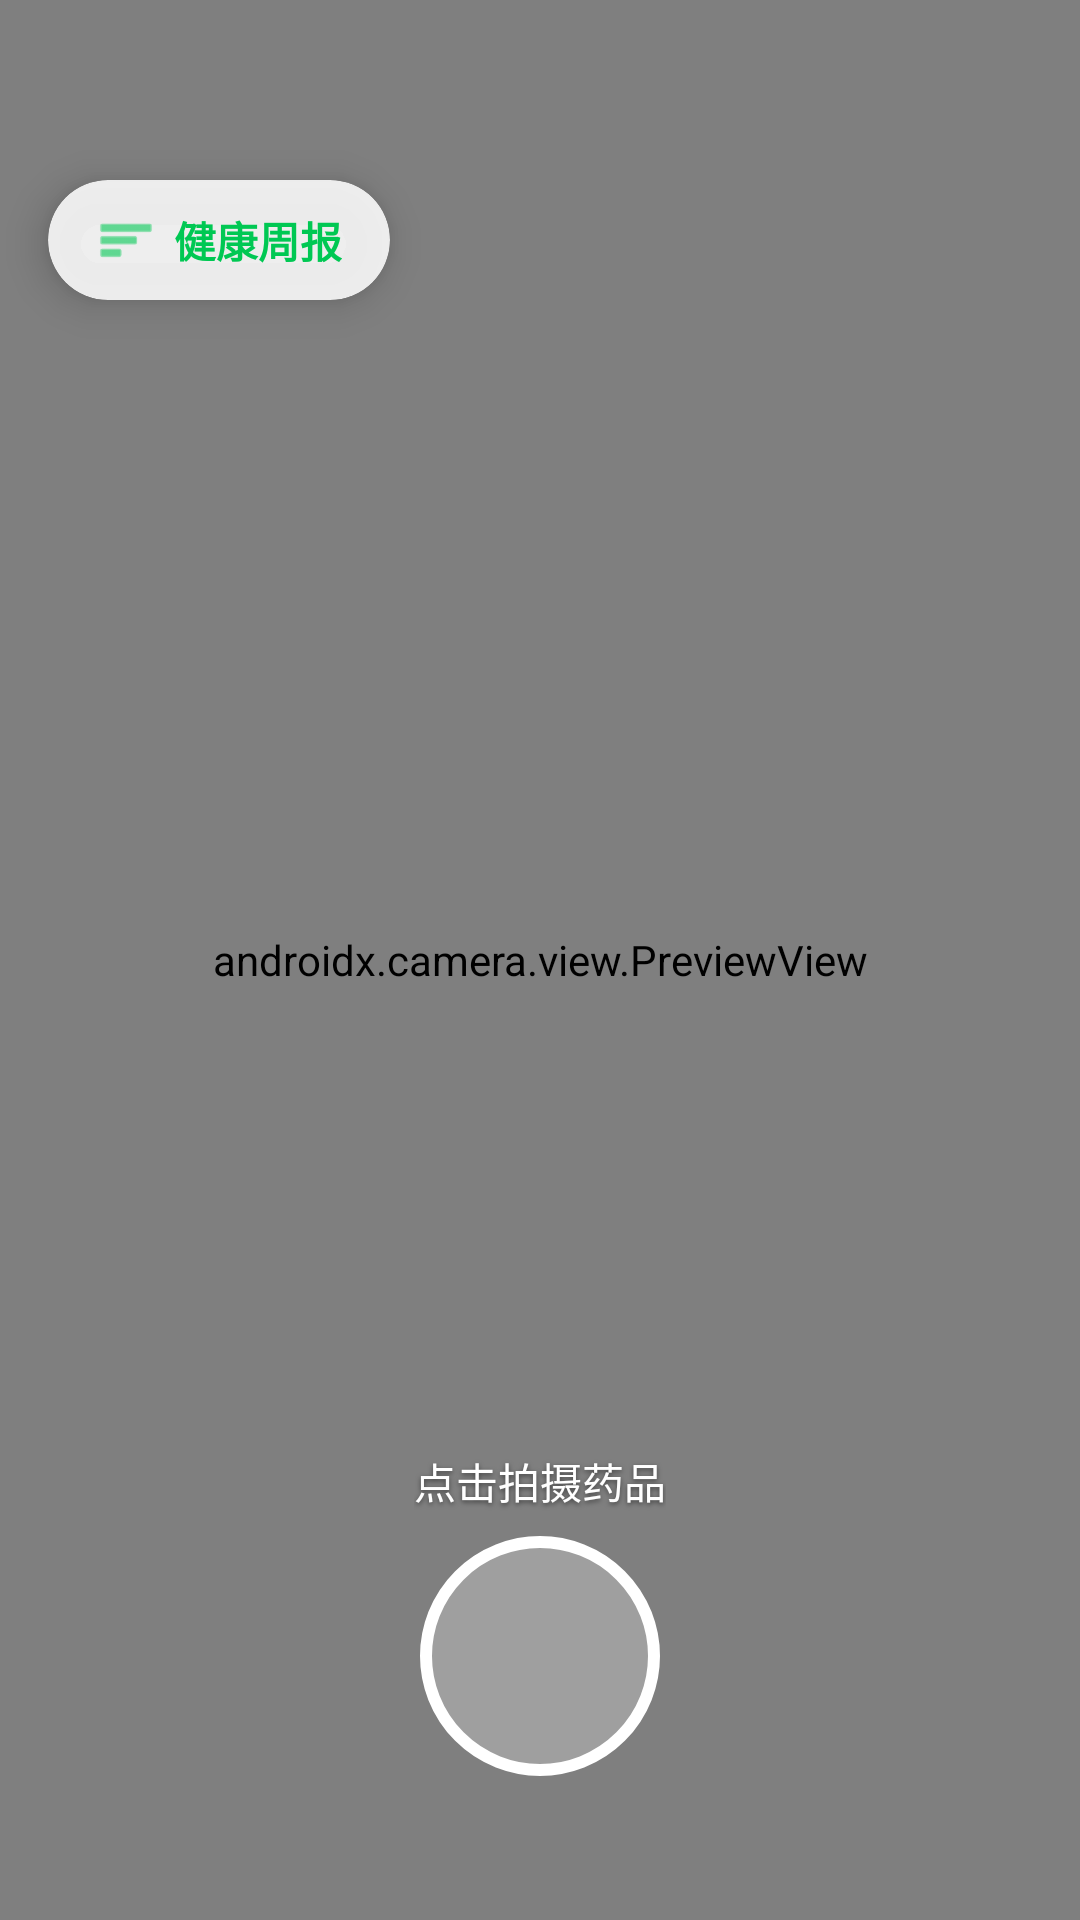

Locate icon controls on the screen. Image size 1080px x 1920px, boxes as [x1=x1, y1=y1, x2=x2, y2=y2].
sort by size: [x1=100, y1=223, x2=152, y2=257]
